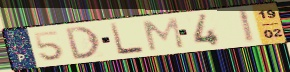4: (193, 12, 221, 48)
5: (32, 30, 66, 62)
D: (63, 25, 102, 61)
I: (236, 8, 257, 45)
L: (108, 22, 147, 57)
M: (141, 16, 187, 53)
